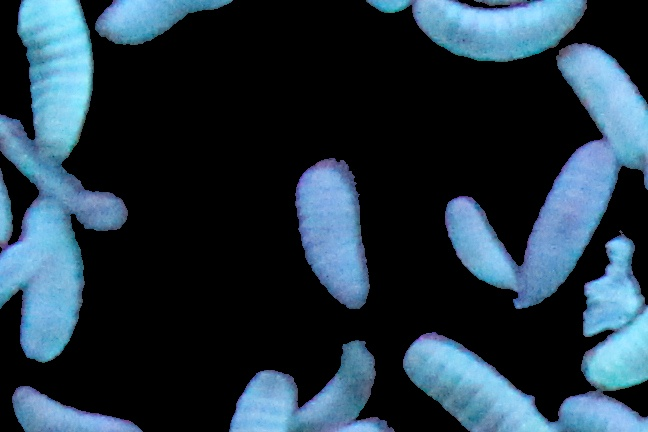larvae: (516, 137, 624, 304), (401, 330, 552, 432), (14, 1, 95, 159), (556, 43, 648, 170), (295, 159, 371, 306), (416, 1, 588, 62), (21, 193, 83, 361), (294, 343, 385, 432), (443, 195, 518, 294), (7, 386, 144, 432), (92, 1, 234, 43), (582, 307, 648, 389), (229, 366, 299, 432), (559, 392, 648, 429)
